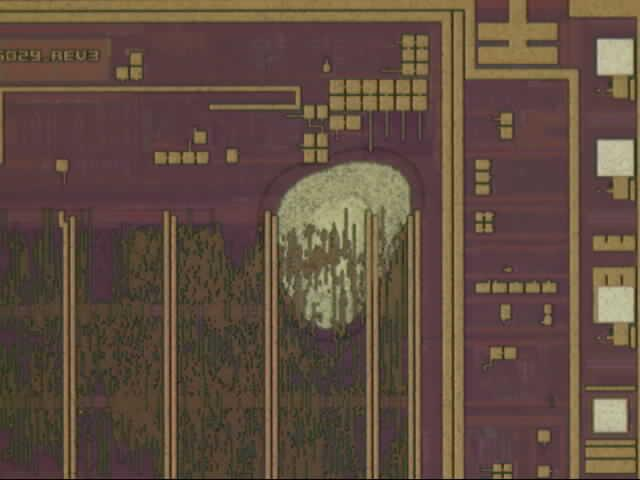BLOCK ETCH: (255, 147, 432, 345)
